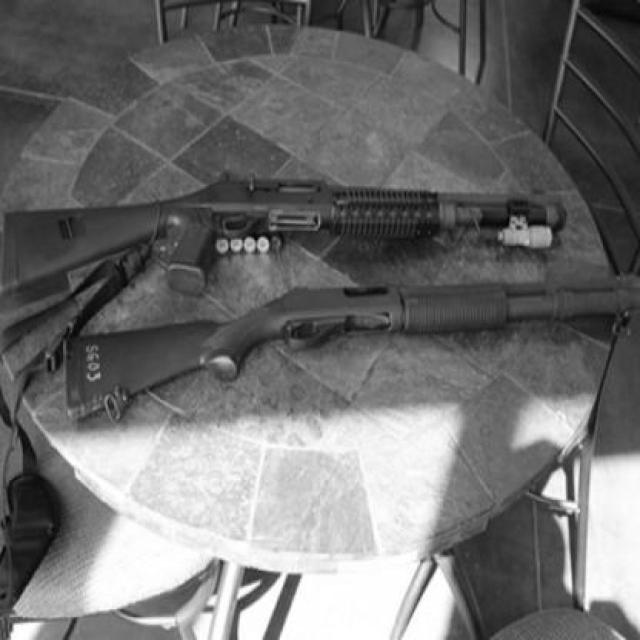weapon: (3, 170, 571, 376), (58, 272, 640, 427)
